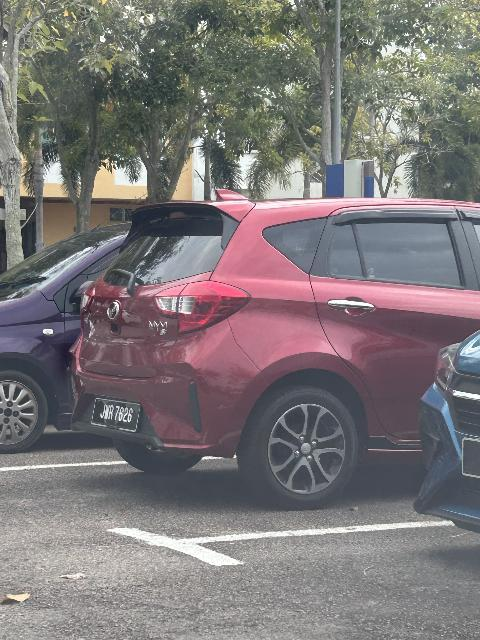JMR7626: (89, 397, 144, 435)
License_Plate: (89, 397, 144, 435)
car: (82, 184, 480, 493)
